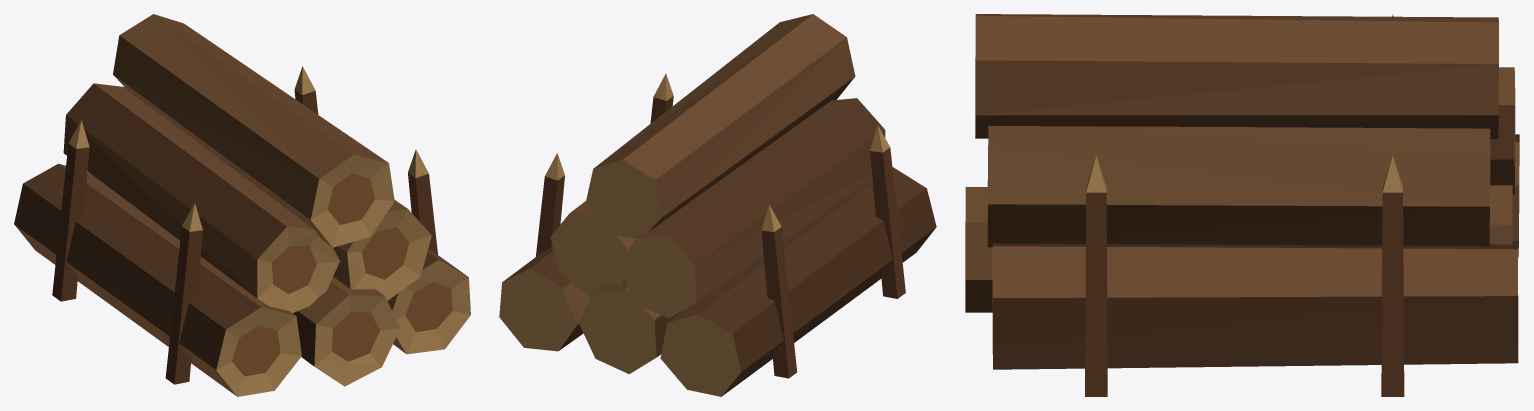
File: timber_pile.glb
3 views of the same model, side by side, from view 1: azimuth 30°, elevation 25°; view 2: azimuth 150°, elevation 25°; view 3: azimuth 270°, elevation 25° (orthographic). The views are drawn at different scales.
Parts seen in each view (by area): view 1: timber_pile; view 2: timber_pile; view 3: timber_pile.
Boxes of the visible parts, left/top/right/bottom form: timber_pile: left=14, top=14, right=470, bottom=396; timber_pile: left=499, top=14, right=936, bottom=396; timber_pile: left=965, top=14, right=1519, bottom=396.
Bounding box in the file's own units: 0.9106 × 0.7313 × 1.23.
